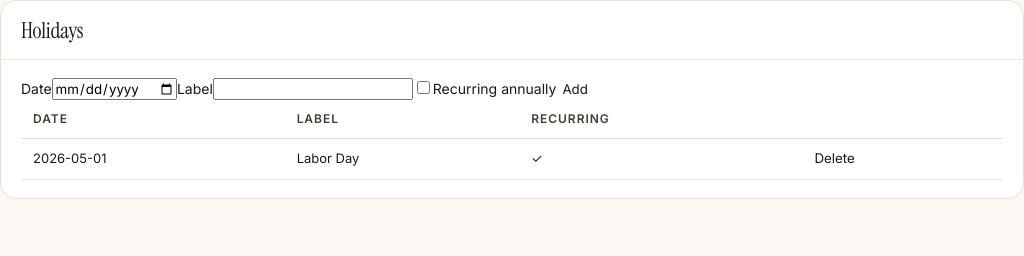
HolidayPage › lists holidays and creates a new one
Expected: the text "Labor Day" is shown, [285,139,519,179]
In the date field labelled "Date": (114, 89) [52,78,177,100], type "2026-12-25"
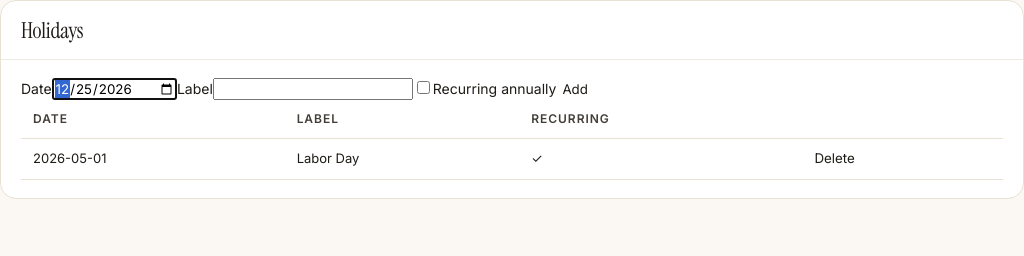
In the field labelled "Label": (313, 89) [213,78,413,100], type "Christmas"
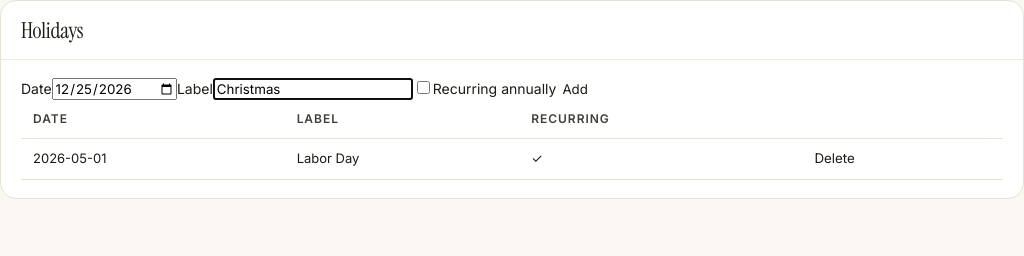
Click the button "Add": (575, 89) [556,80,594,98]
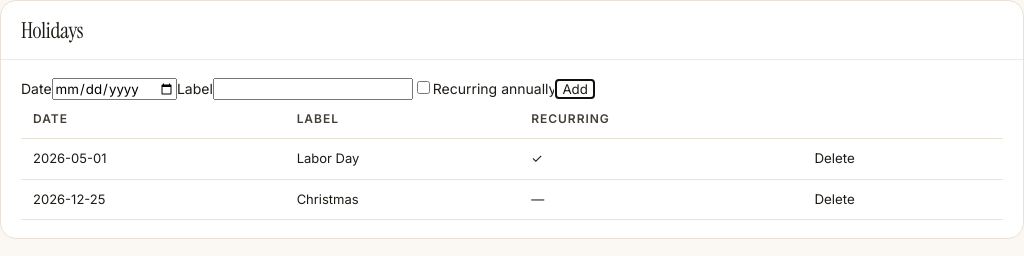
Expected: the text "Christmas" is shown, [285,179,519,220]
